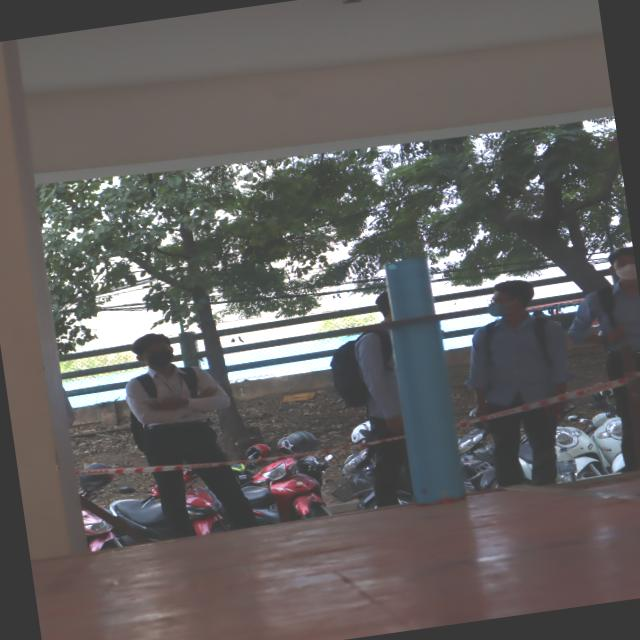pole: (352, 244, 492, 384)
